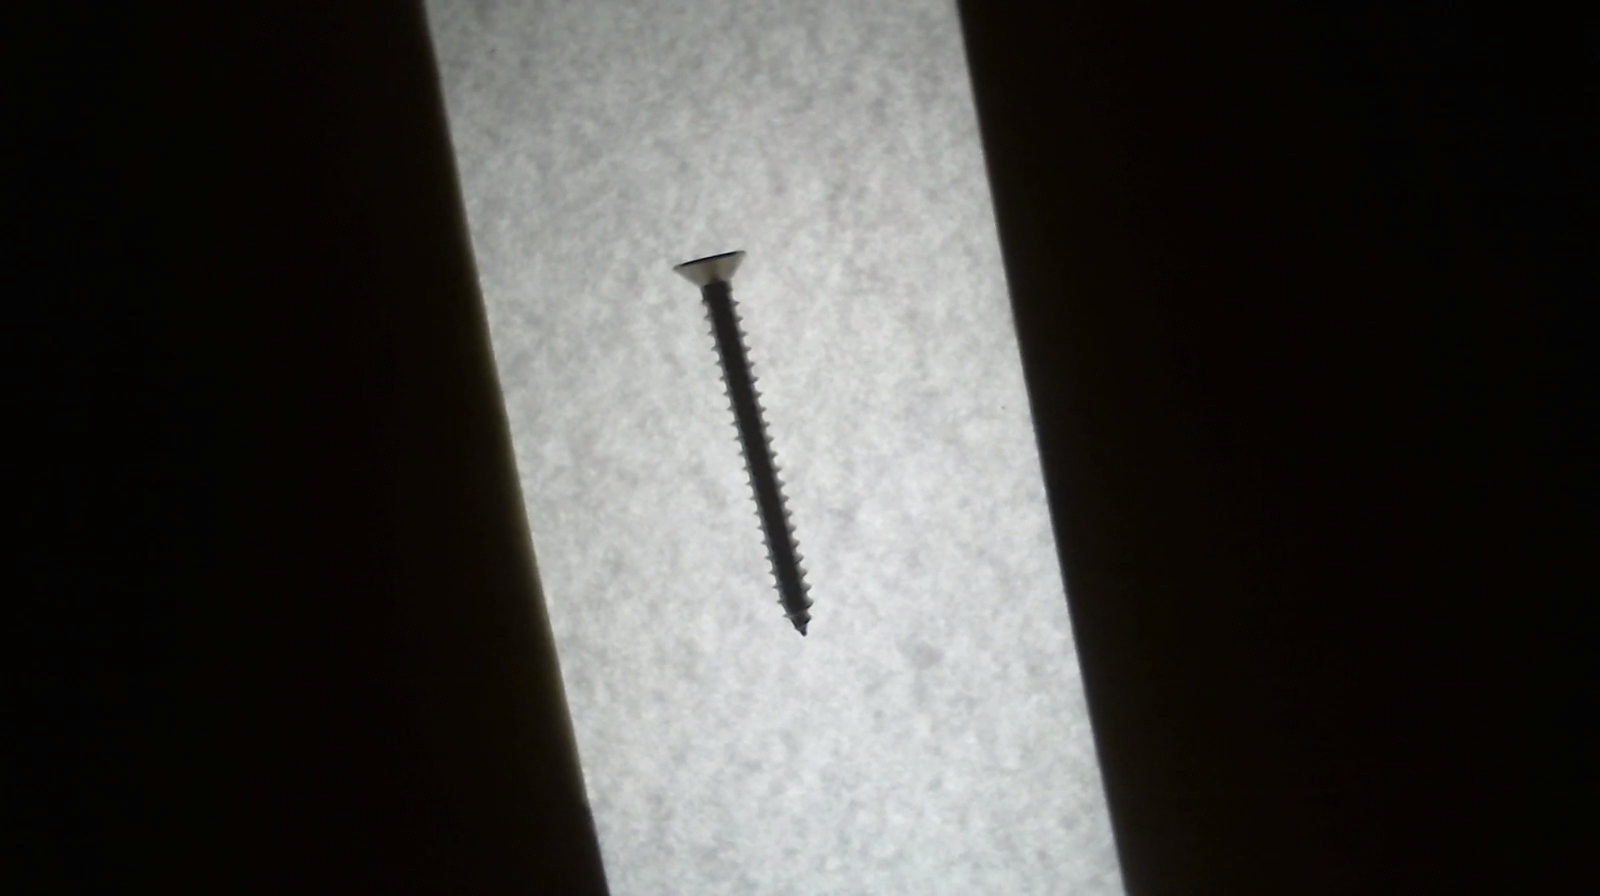S002: (670, 241, 830, 643)
